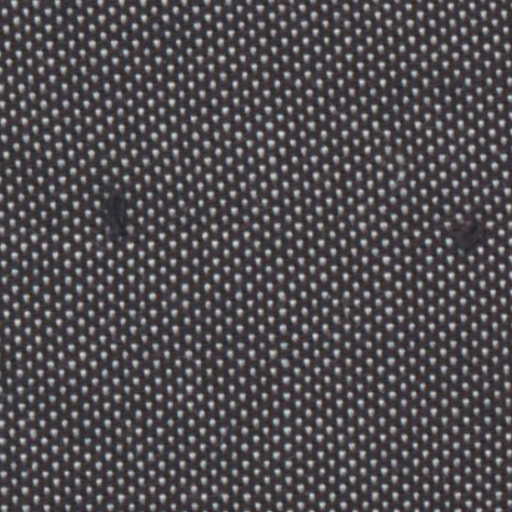MianQiu: (89, 174, 150, 254), (436, 202, 496, 260)
